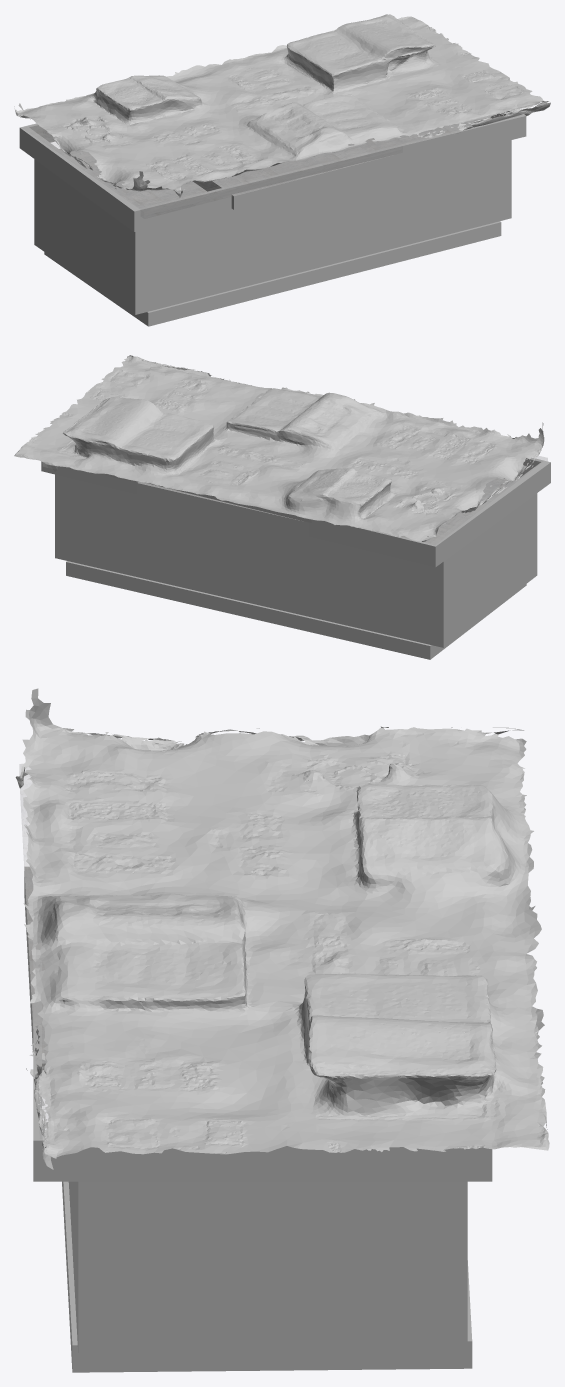
File: dej dej2.fbx
3 views of the same model, one above another, from view 1: azimuth 30°, elevation 25°; view 2: azimuth 150°, elevation 25°; view 3: azimuth 270°, elevation 25° (orthographic). The views are drawn at different scales.
Visible parts, largest first — view 1: Mesh_0.001, housing, top, basis, travertine, epoxy resin; view 2: Mesh_0.001, housing, top, basis, travertine, epoxy resin; view 3: Mesh_0.001, housing, top, basis, travertine, epoxy resin.
Boxes of the visible parts, left/top/right/bottom form: Mesh_0.001: left=14, top=14, right=550, bottom=197; housing: left=34, top=117, right=511, bottom=314; top: left=19, top=109, right=526, bottom=231; basis: left=44, top=221, right=501, bottom=326; travertine: left=192, top=134, right=423, bottom=209; epoxy resin: left=36, top=114, right=505, bottom=218; Mesh_0.001: left=14, top=355, right=544, bottom=541; housing: left=55, top=474, right=537, bottom=647; top: left=41, top=457, right=550, bottom=567; basis: left=66, top=561, right=526, bottom=659; travertine: left=137, top=482, right=308, bottom=536; epoxy resin: left=102, top=456, right=547, bottom=542; Mesh_0.001: left=15, top=688, right=549, bottom=1169; housing: left=68, top=1181, right=467, bottom=1356; top: left=33, top=943, right=492, bottom=1181; basis: left=62, top=1181, right=472, bottom=1372; travertine: left=24, top=866, right=48, bottom=1074; epoxy resin: left=20, top=764, right=47, bottom=1129.
Bounding box in the file's own units: 161 × 58.83 × 88.2.
